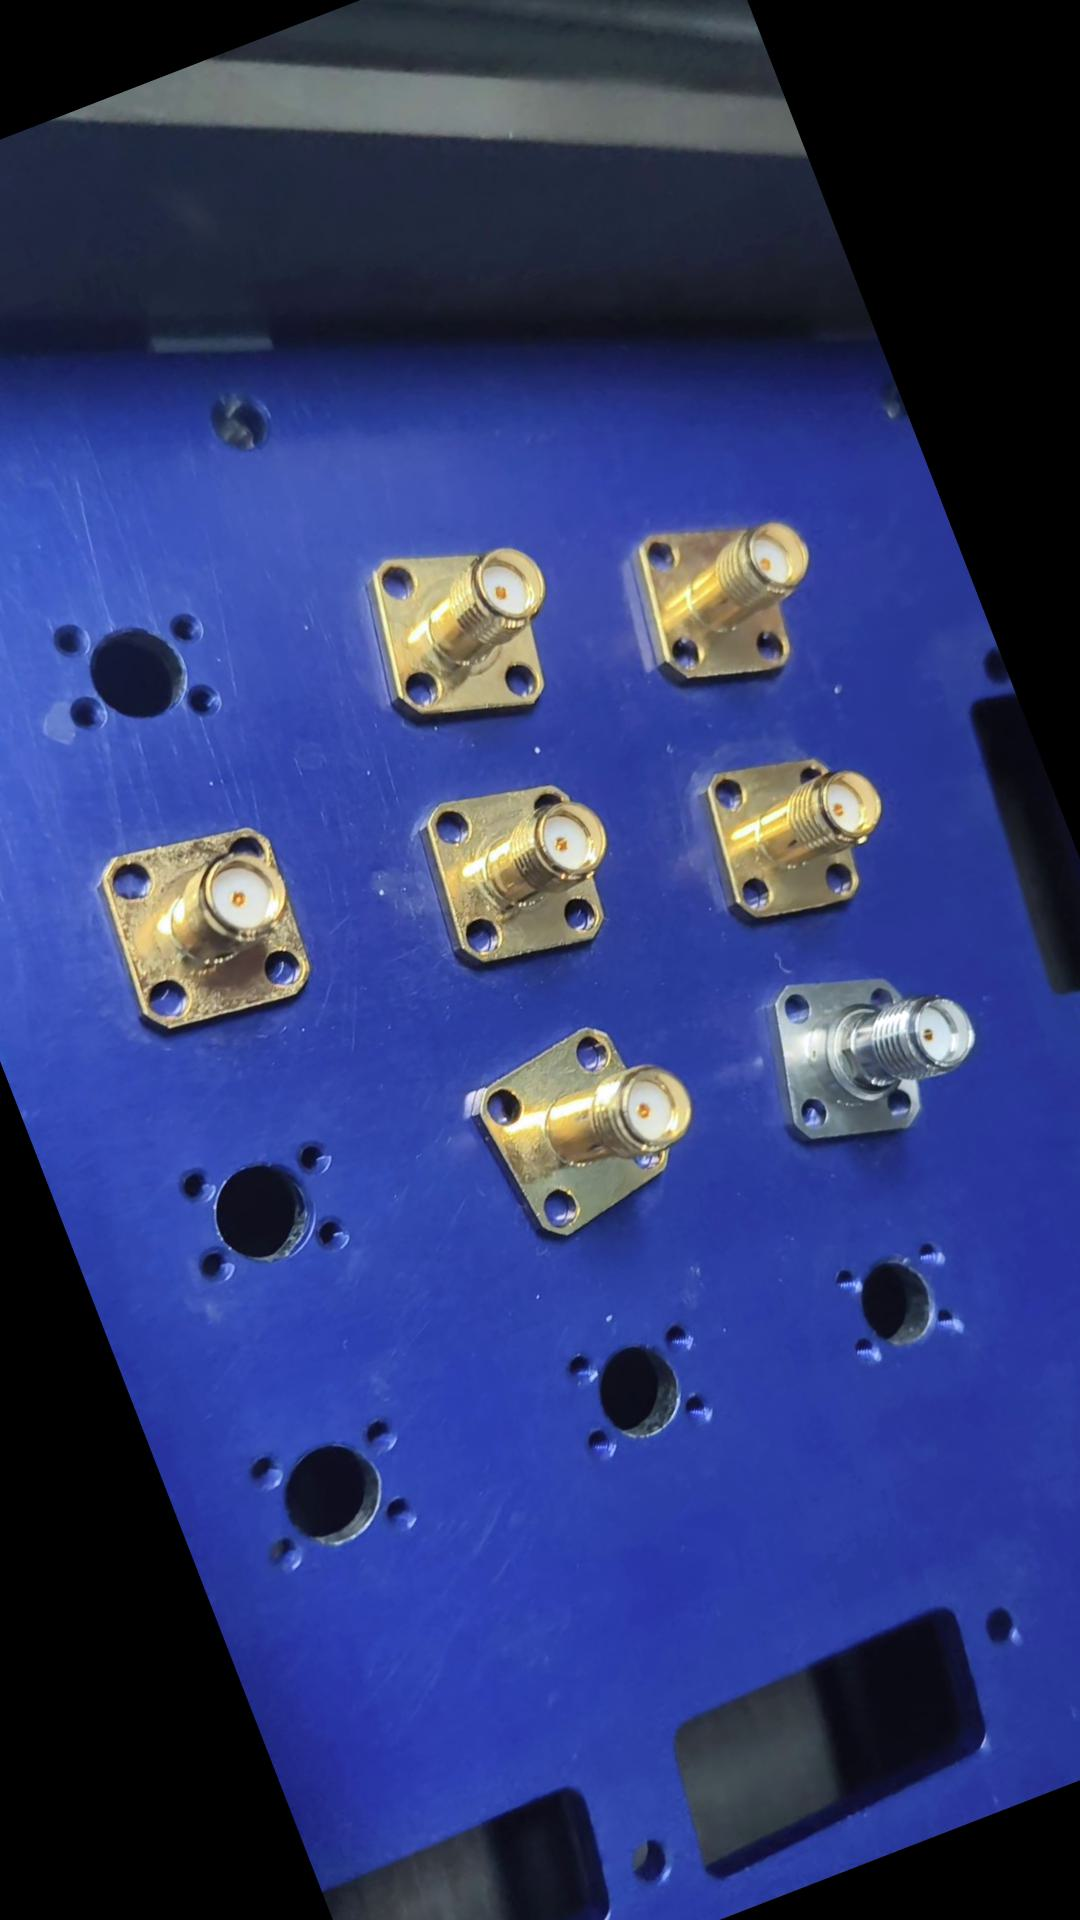SMA: (446, 996, 724, 1263), (330, 506, 582, 760), (75, 800, 324, 1052), (736, 930, 994, 1164), (392, 749, 640, 993), (605, 487, 844, 719), (675, 724, 907, 942)
